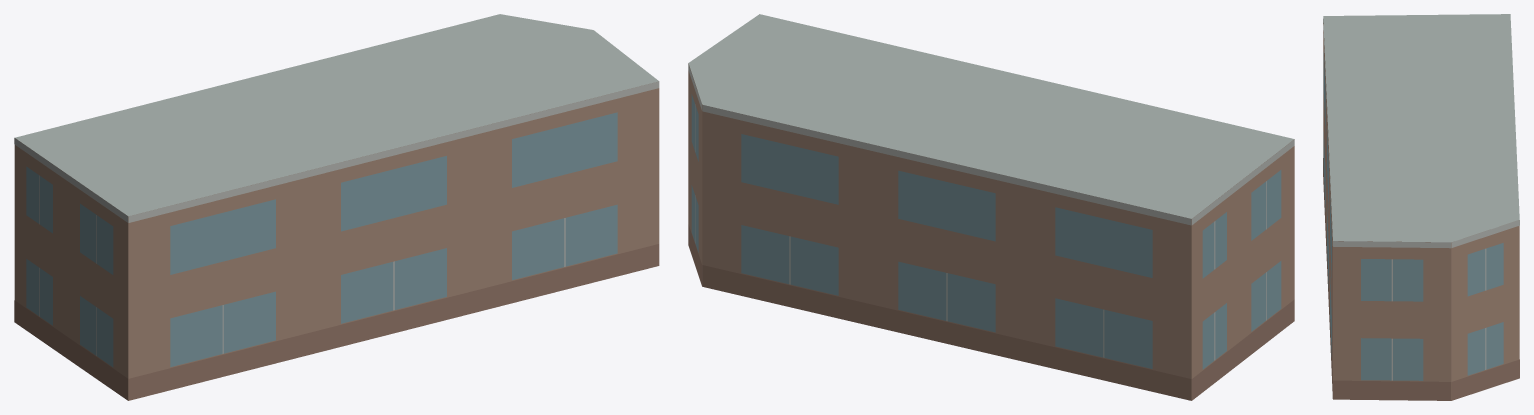
File: survey-upis-32516839.glb
The picture shows the model from 3 angles, left to right: view 1: azimuth 30°, elevation 25°; view 2: azimuth 150°, elevation 25°; view 3: azimuth 270°, elevation 25°; orthographic projection. The views are drawn at different scales.
Parts seen in each view (by area): view 1: survey-upis-32516839.tmp; view 2: survey-upis-32516839.tmp; view 3: survey-upis-32516839.tmp.
Part boxes in pixels (x1=…): survey-upis-32516839.tmp: x1=14, y1=14, x2=659, y2=400; survey-upis-32516839.tmp: x1=688, y1=14, x2=1294, y2=400; survey-upis-32516839.tmp: x1=1323, y1=14, x2=1519, y2=400.
Bounding box in the file's own units: 20.55 × 6.65 × 7.48.
